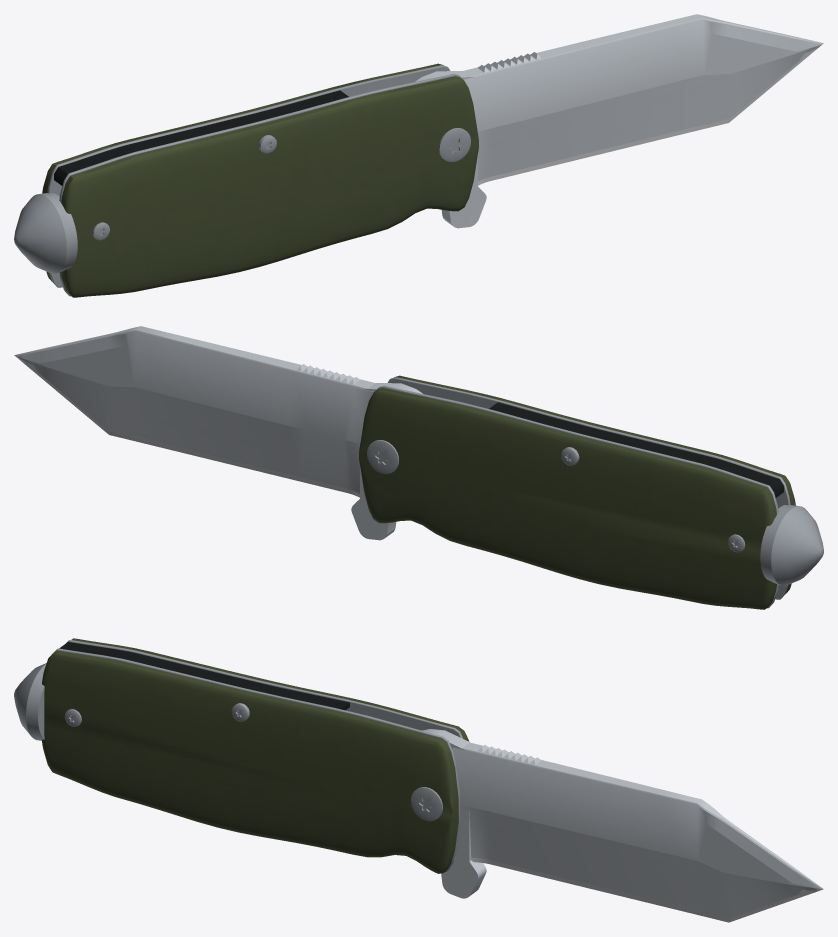
Rendered from ursus_lod1.glb.
The picture shows the model from 3 angles, top to bottom: view 1: azimuth 30°, elevation 25°; view 2: azimuth 150°, elevation 25°; view 3: azimuth 330°, elevation 25°; orthographic projection.
Parts seen in each view (by area): view 1: body, blade_pivot_mesh; view 2: body, blade_pivot_mesh; view 3: body, blade_pivot_mesh.
Boxes of the visible parts, <box> form: body: <box>14,63,478,297</box>; blade_pivot_mesh: <box>415,14,823,228</box>; body: <box>359,375,823,609</box>; blade_pivot_mesh: <box>14,326,422,540</box>; body: <box>14,638,469,873</box>; blade_pivot_mesh: <box>422,729,823,922</box>.
Bounding box in the file's own units: 0.247 × 0.0469 × 0.0216.
5 materials, 5 textured.
